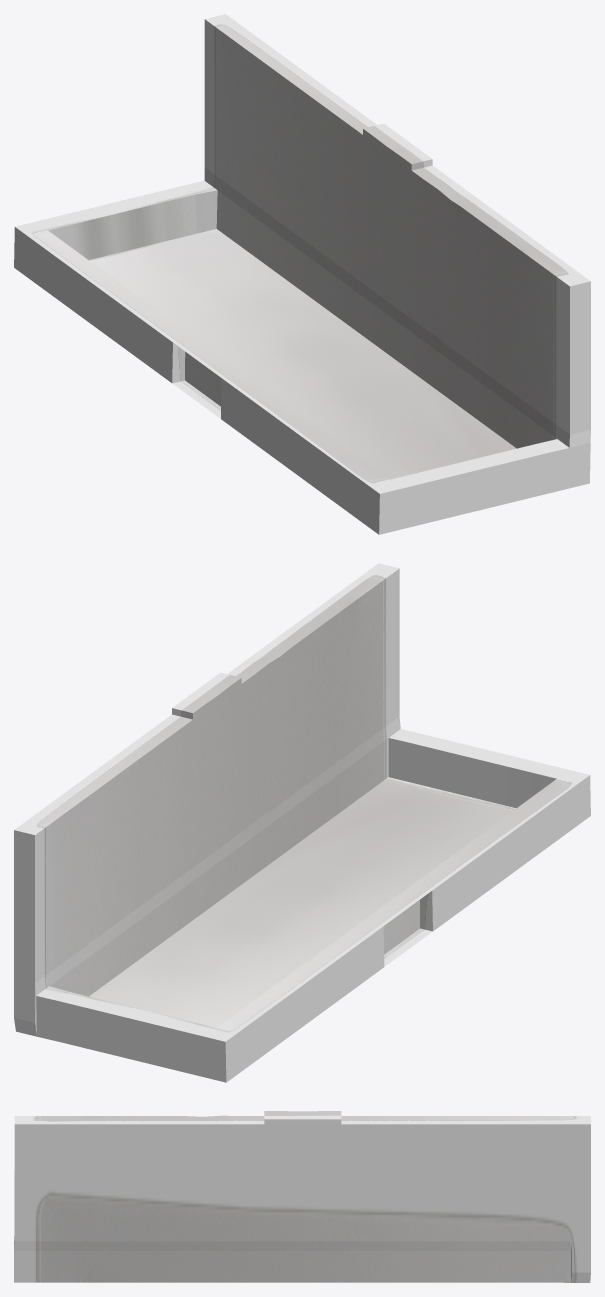
File: pencilbox.fbx
3 views of the same model, one above another, from view 1: azimuth 30°, elevation 25°; view 2: azimuth 150°, elevation 25°; view 3: azimuth 270°, elevation 25° (orthographic). The views are drawn at different scales.
Visible parts, largest first — view 1: Plane001; view 2: Plane001; view 3: Plane001.
Part boxes in pixels (x1,y1,x2,y2): Plane001: (14,14,590,534); Plane001: (14,563,590,1082); Plane001: (14,1111,590,1282).
Bounding box in the file's own units: 3.97 × 3.71 × 11.82.
1 material, 1 textured.
